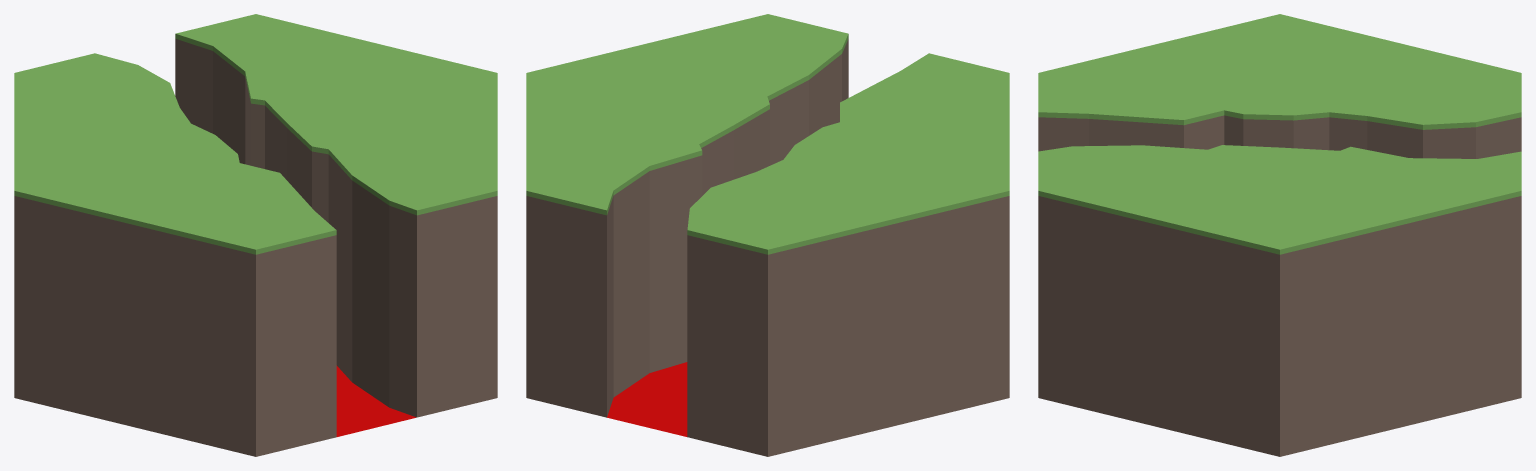
The model's file is tile_Lava04.fbx.
The picture shows the model from 3 angles, left to right: view 1: azimuth 30°, elevation 25°; view 2: azimuth 150°, elevation 25°; view 3: azimuth 270°, elevation 25°; orthographic projection.
Parts seen in each view (by area): view 1: Tile14; view 2: Tile14; view 3: Tile14.
Boxes of the visible parts, left/top/right/bottom form: Tile14: left=14, top=14, right=497, bottom=456; Tile14: left=526, top=14, right=1009, bottom=456; Tile14: left=1038, top=14, right=1521, bottom=456.
Bounding box in the file's own units: 2 × 0.82 × 1.73.
